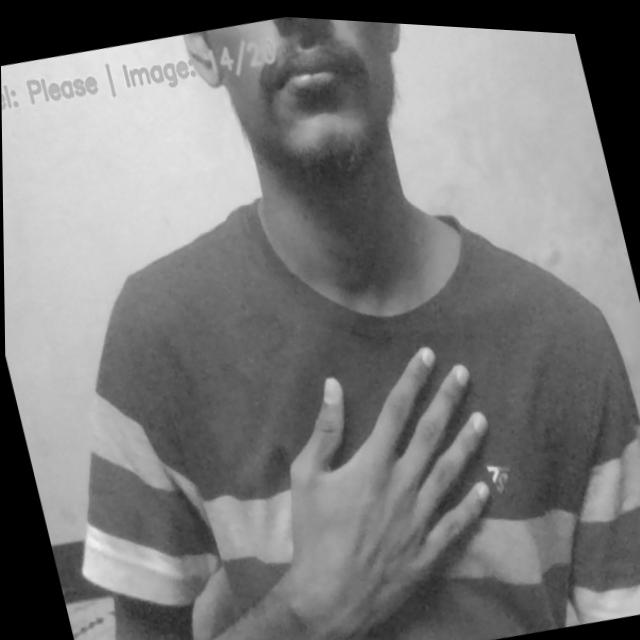Please: (223, 320, 534, 640)
